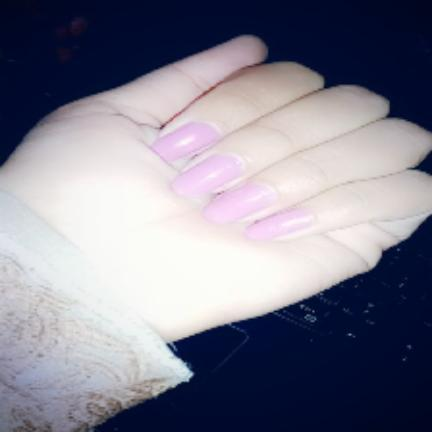Nail: (201, 183, 277, 225), (170, 154, 243, 197), (149, 122, 220, 163), (243, 209, 314, 240)
